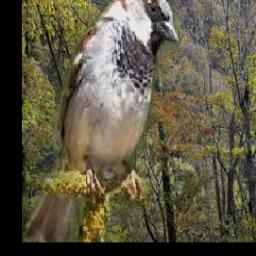Sparrow: (26, 0, 179, 242)
